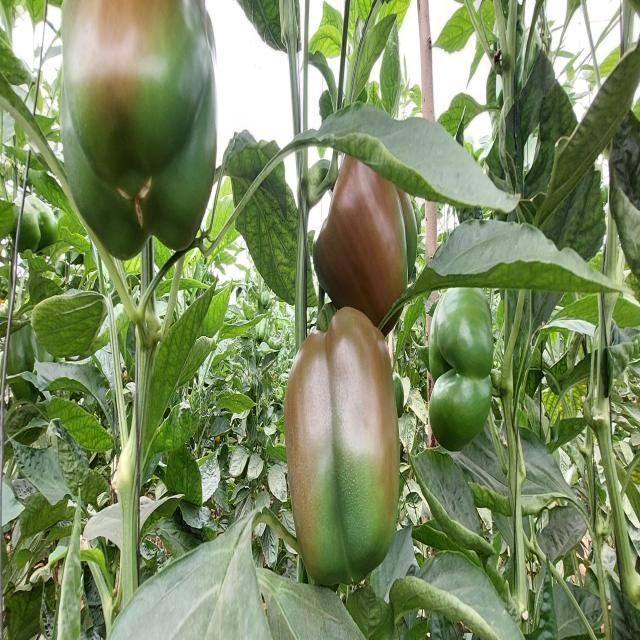BrownishRed--Can-be-Harvested: (64, 0, 222, 256), (294, 308, 402, 570), (305, 144, 421, 309)
Green--Not-ready-to-harvest: (438, 290, 504, 457)
